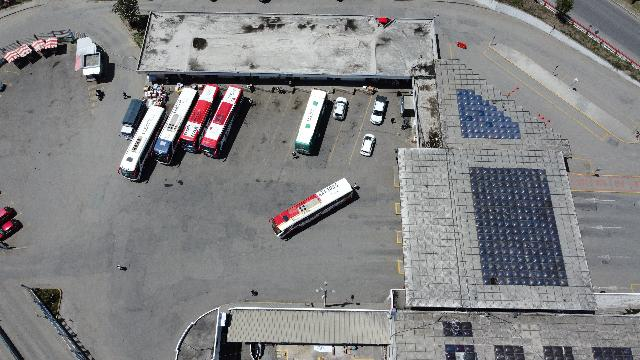Vehiculo: (370, 96, 388, 125), (332, 97, 348, 121), (360, 134, 376, 156)
